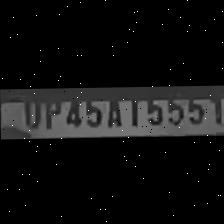4: (62, 96, 82, 127)
5: (142, 94, 164, 127), (184, 93, 206, 126), (164, 95, 184, 127), (82, 97, 102, 128)
A: (102, 96, 124, 128)
P: (39, 97, 61, 128)
T: (124, 94, 142, 127)
U: (19, 98, 41, 128)
